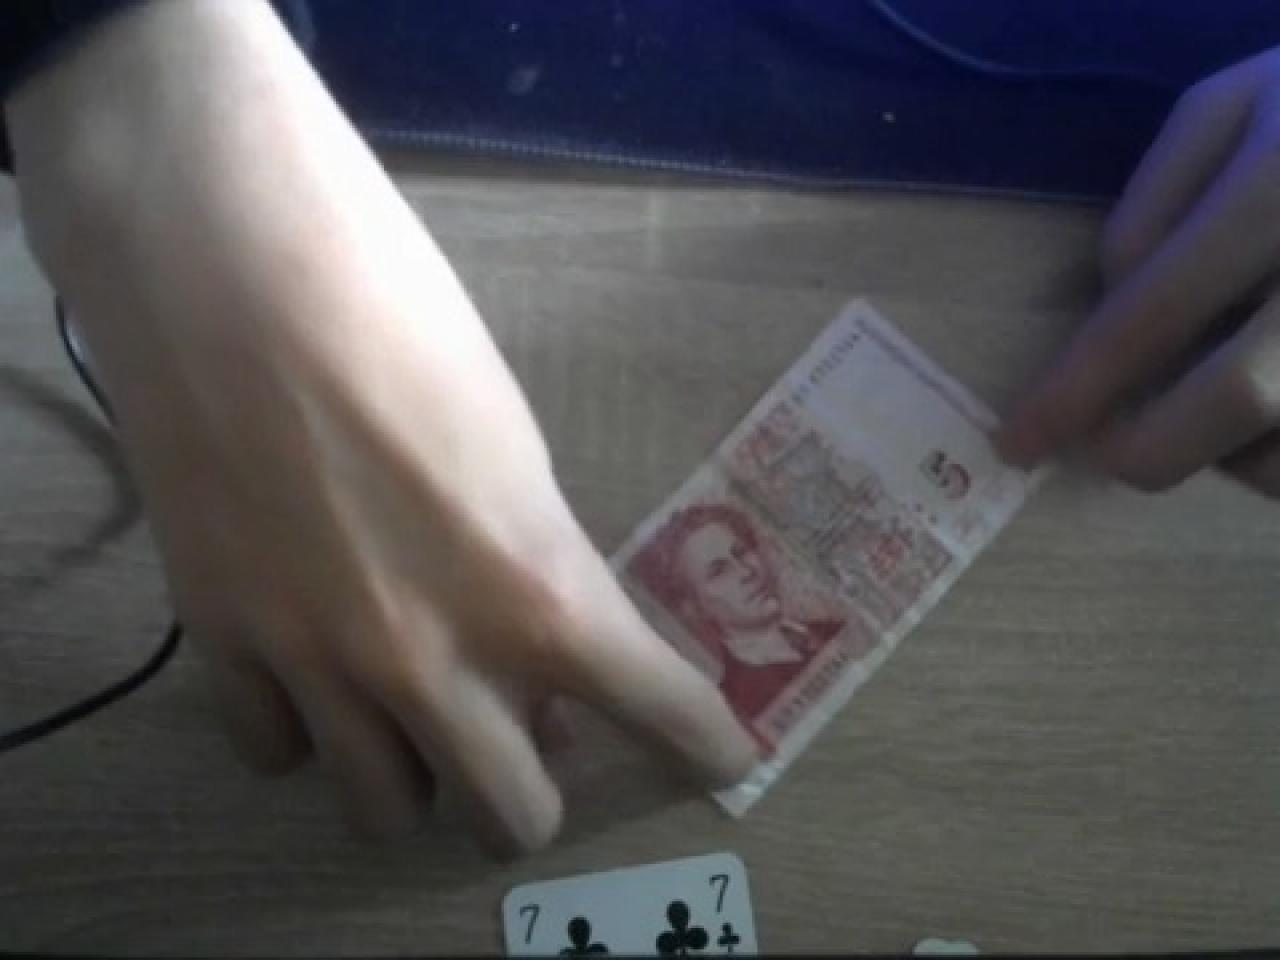5leva: (608, 302, 1056, 824)
